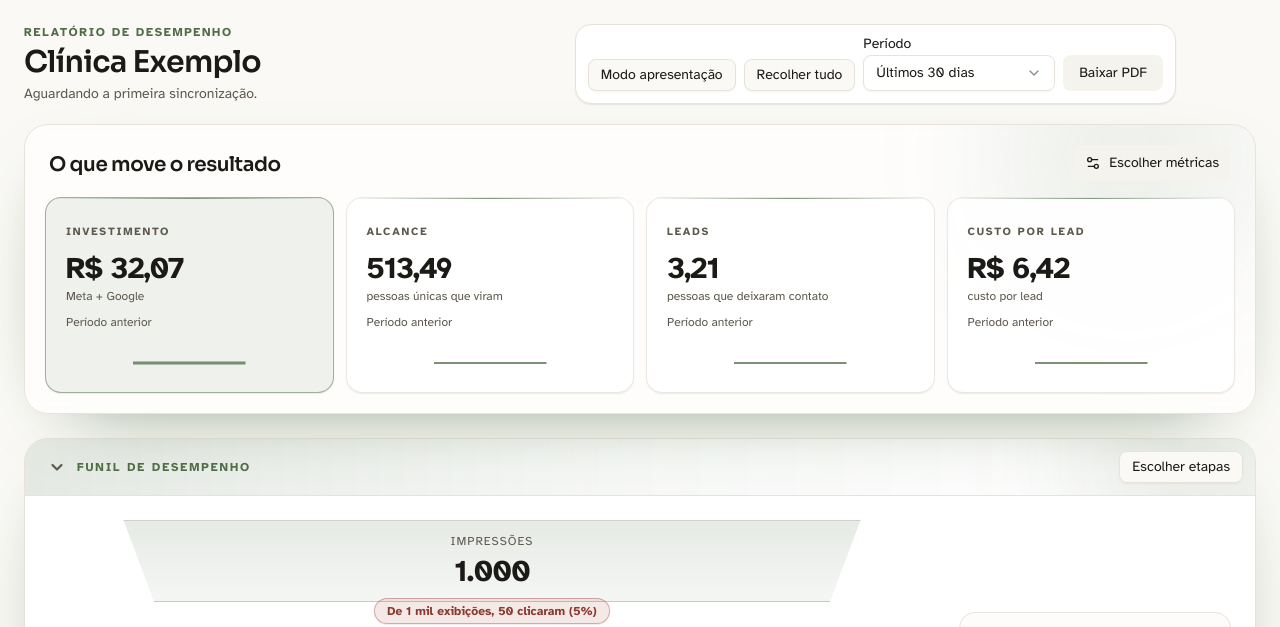
Test case: colunas da tabela de campanhas › mostra o erro dos slides sem criar iframe quando a busca falha
The image size is (1280, 627).
Click the button "Baixar PDF". click: click(1113, 73)
box: top-left (1063, 55), bottom-right (1163, 91)
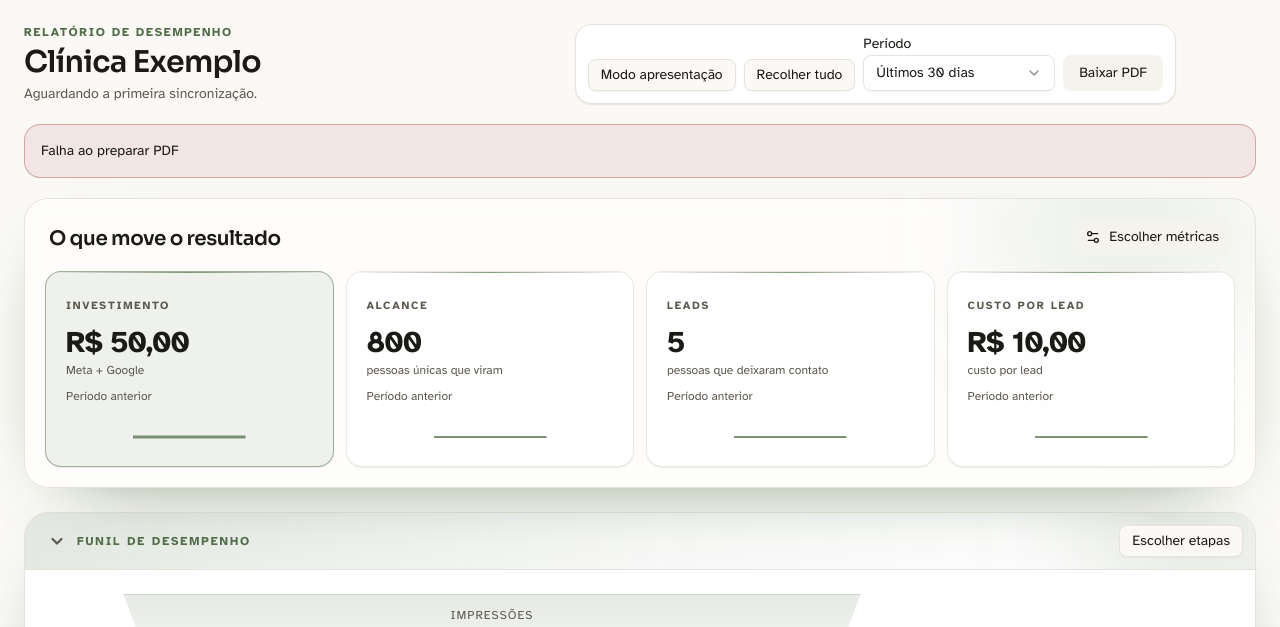
Result: the message reads "Falha ao preparar PDF" at top-left (41, 142), bottom-right (179, 159)
